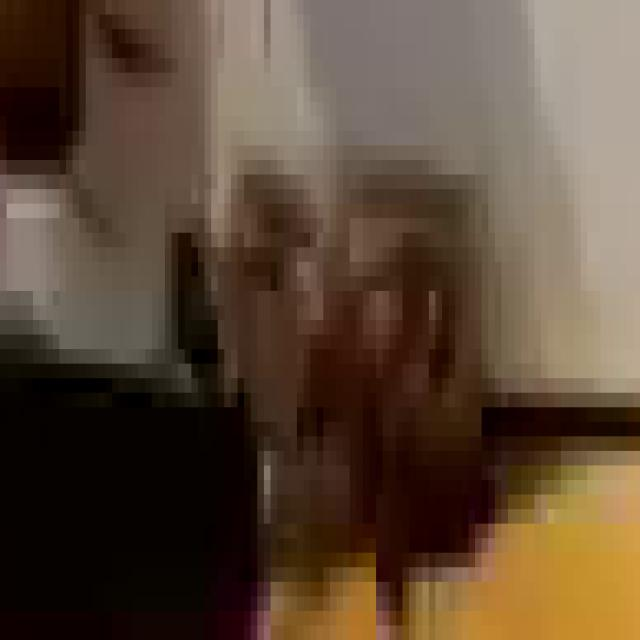honeybee: (166, 157, 492, 587)
